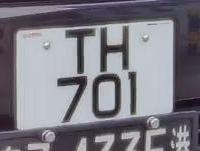0: (90, 71, 125, 124)
1: (122, 68, 144, 120)
7: (53, 72, 91, 126)
H: (97, 22, 134, 76)
T: (60, 23, 100, 78)
